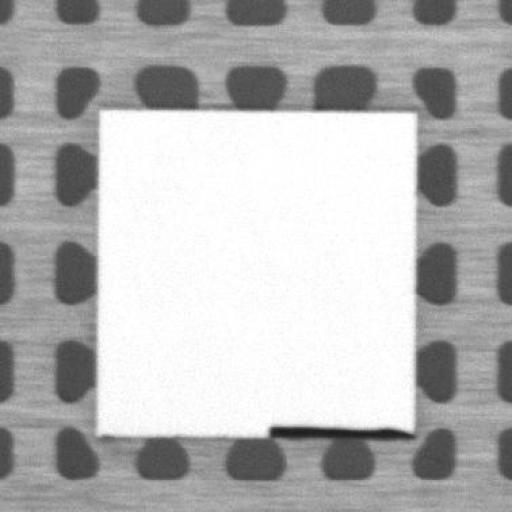DIE_BROKEN: (267, 420, 416, 440)
